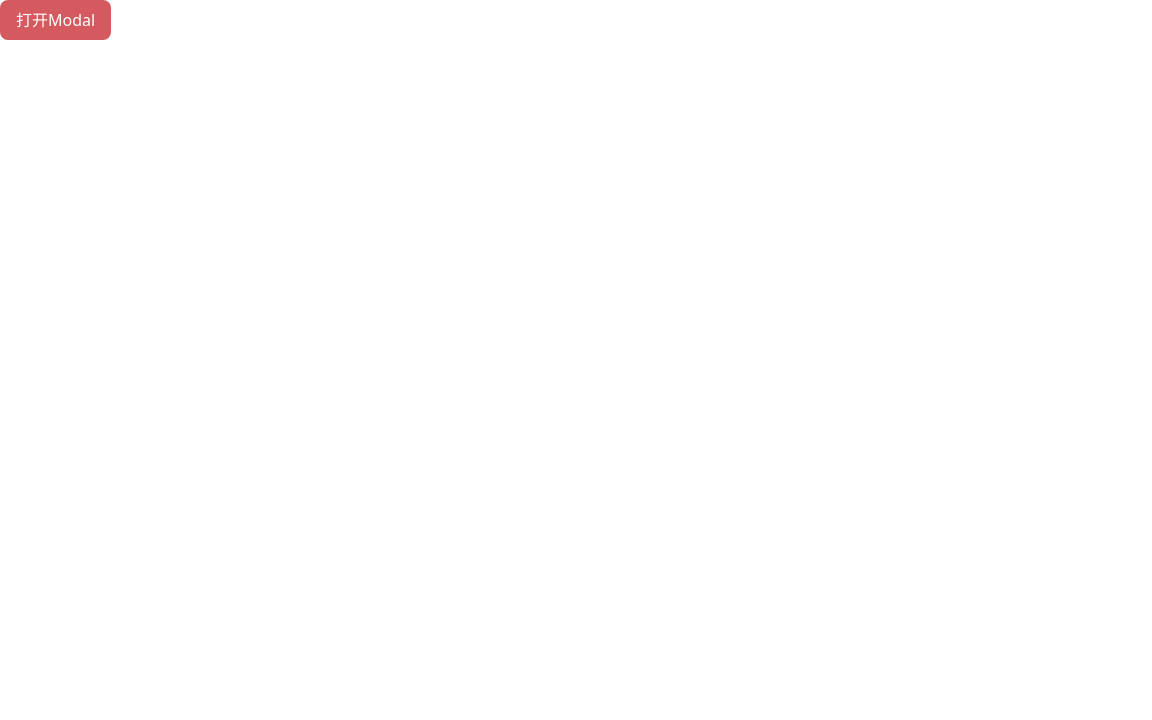
Test: 组件集成测试 › Modal集成 › 应该能够集成Modal和Button
Expected: the text "内容" is not shown
What coordinates should you click on to do the following:
click the button "打开Modal"
I would click on:
 (56, 20)
Its box is [0,0,111,40].
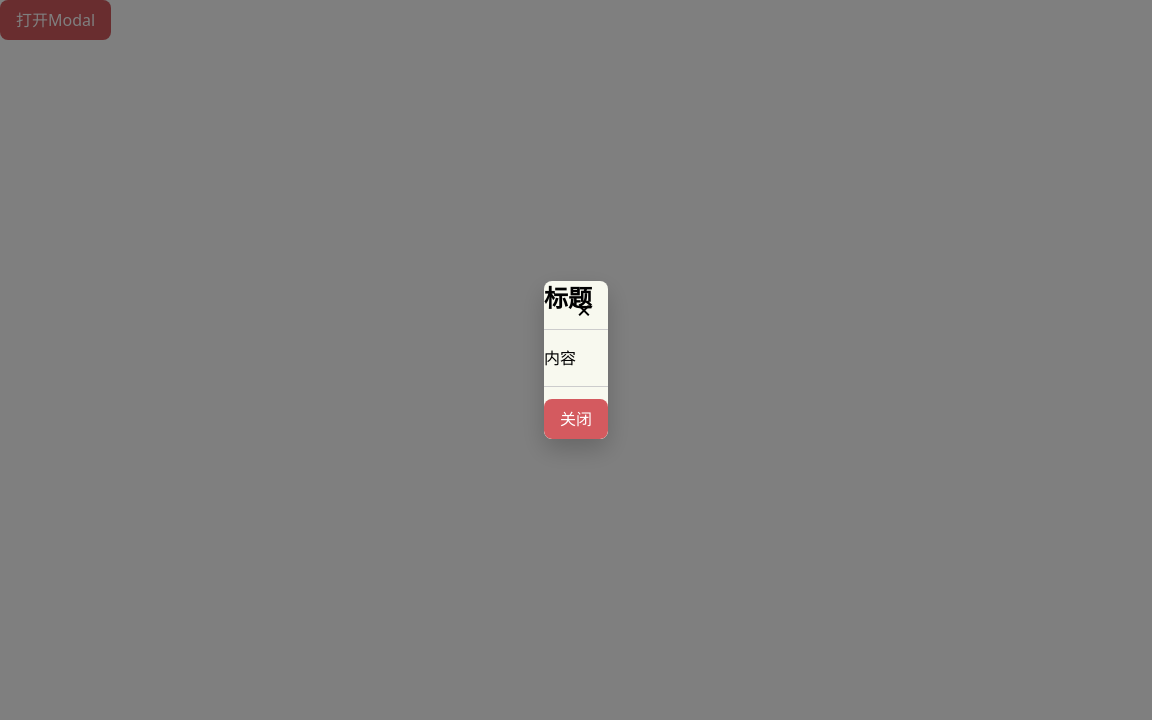
Now the text "内容" is shown, box [544,348,576,368]
